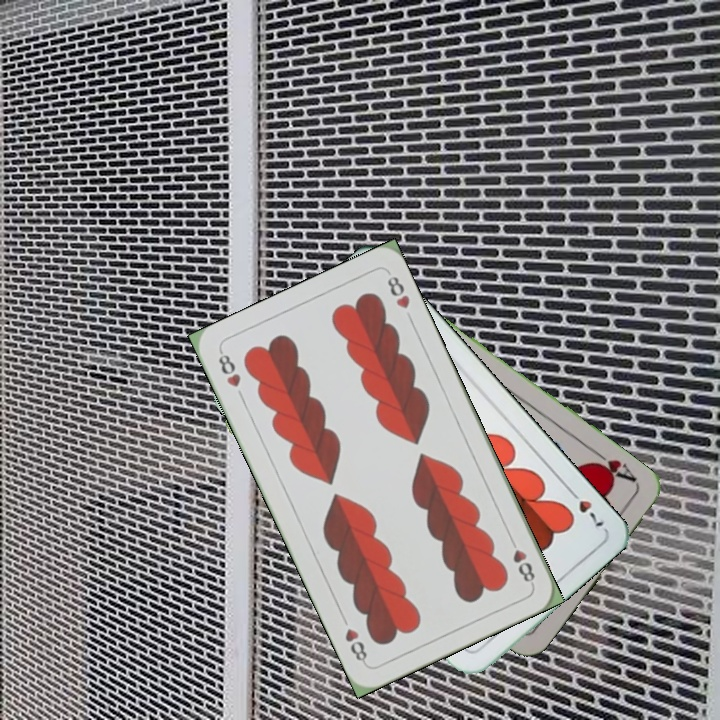H7: (563, 483, 607, 530)
H8: (504, 532, 538, 588), (214, 347, 244, 390)
HA: (586, 445, 640, 486)
